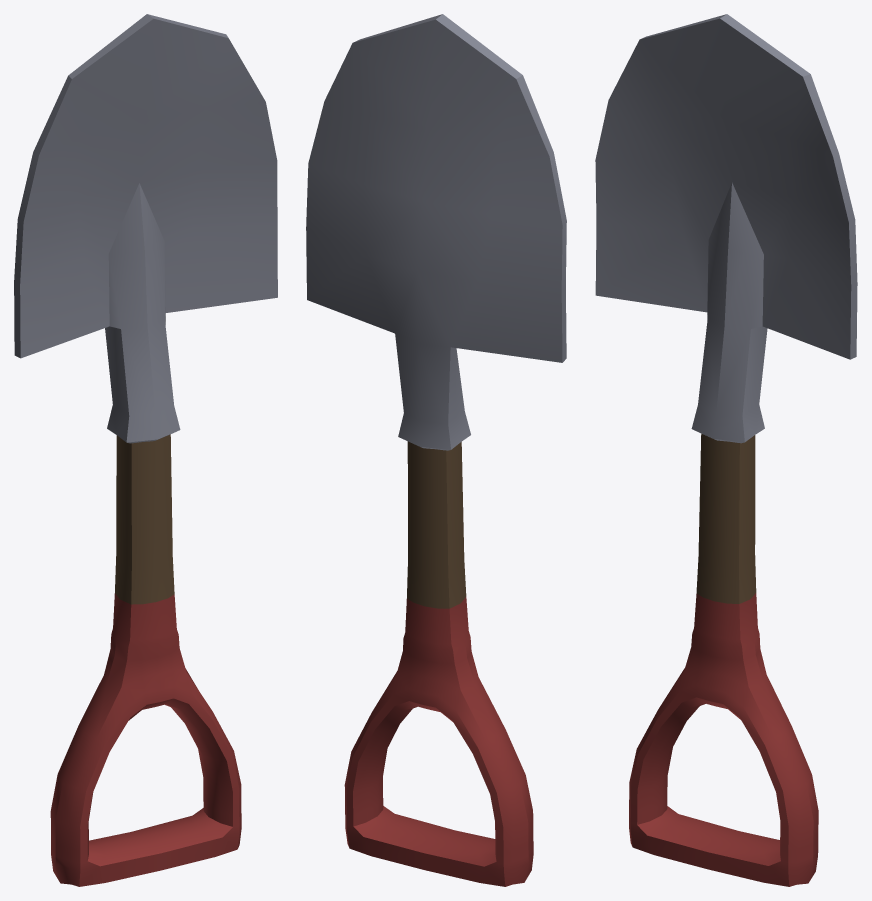
The model's file is shovel.glb.
3 views of the same model, side by side, from view 1: azimuth 30°, elevation 25°; view 2: azimuth 150°, elevation 25°; view 3: azimuth 330°, elevation 25° (orthographic).
Visible parts, largest first — view 1: Shovel; view 2: Shovel; view 3: Shovel.
Part boxes in pixels (bbox=[...]): Shovel: bbox=[14, 14, 277, 886]; Shovel: bbox=[306, 14, 566, 886]; Shovel: bbox=[595, 14, 857, 886].
Bounding box in the file's own units: 0.3519 × 1.11 × 0.0858.
